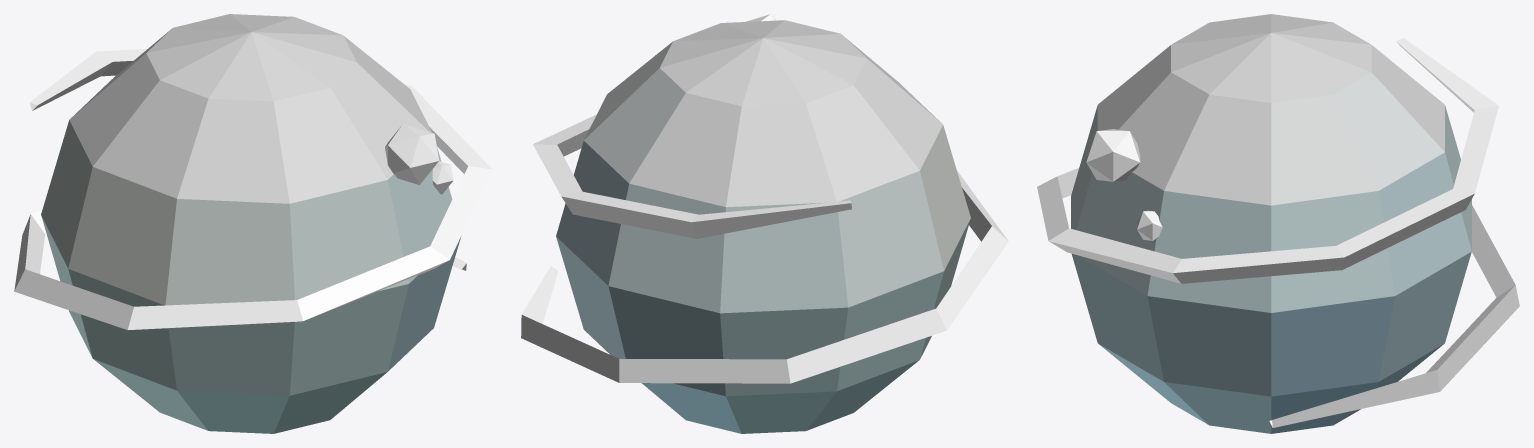
The model's file is breeze_bubble.glb.
3 renders of one model, left to right at view 1: azimuth 30°, elevation 25°; view 2: azimuth 150°, elevation 25°; view 3: azimuth 270°, elevation 25°, orthographic.
Parts seen in each view (by area): view 1: breeze_bubble; view 2: breeze_bubble; view 3: breeze_bubble.
Part boxes in pixels (box(x1,y1,x2,y2)): breeze_bubble: box(14, 14, 492, 433); breeze_bubble: box(521, 14, 1008, 433); breeze_bubble: box(1037, 14, 1519, 433).
Bounding box in the file's own units: 1.86 × 1.6 × 1.83.
